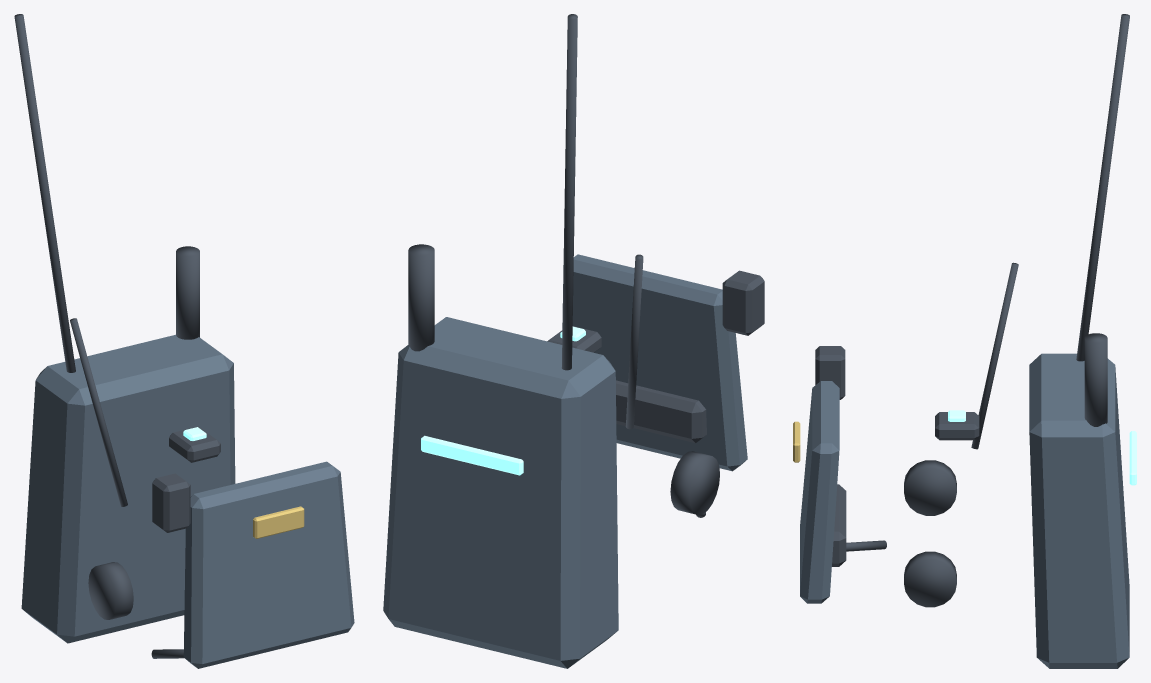
File: hero_gao_kit.glb
The picture shows the model from 3 angles, left to right: view 1: azimuth 30°, elevation 25°; view 2: azimuth 150°, elevation 25°; view 3: azimuth 270°, elevation 25°; orthographic projection. The views are drawn at different scales.
Parts seen in each view (by area): view 1: CommsPack, CmdPlate, LongWhipAnt, SatStub, EarCup_-1, ShoulderPTT, HelmetAnt, CmdGoldPatch, IRStrobe; view 2: CommsPack, CmdPlate, LongWhipAnt, VisorFrame, SatStub, EarCup_-1, ShoulderPTT, IFFStrip, HelmetAnt, IRStrobe; view 3: CommsPack, CmdPlate, LongWhipAnt, EarCup_1, EarCup_-1, SatStub, HelmetAnt, ShoulderPTT, IRStrobe, VisorFrame.
Part boxes in pixels (x1,y1,x2,y2): CommsPack: (21,334,235,643); CmdPlate: (183,461,354,668); LongWhipAnt: (14,14,75,372); SatStub: (176,246,199,339); EarCup_-1: (88,562,133,619); ShoulderPTT: (152,473,190,532); HelmetAnt: (70,318,127,506); CmdGoldPatch: (253,506,304,538); IRStrobe: (169,426,220,462); CommsPack: (383,317,618,668); CmdPlate: (562,254,747,471); LongWhipAnt: (561,14,577,370); VisorFrame: (616,380,706,443); SatStub: (408,244,434,351); EarCup_-1: (670,451,719,514); ShoulderPTT: (722,270,764,335); IFFStrip: (421,435,523,475); HelmetAnt: (625,254,643,429); IRStrobe: (547,326,601,352); CommsPack: (1029,353,1129,668); CmdPlate: (800,381,839,603); LongWhipAnt: (1076,14,1129,361); EarCup_1: (904,551,956,607); EarCup_-1: (904,460,956,515); SatStub: (1084,333,1107,426); HelmetAnt: (971,262,1018,449); ShoulderPTT: (815,346,845,399); IRStrobe: (935,412,979,440); VisorFrame: (832,484,846,566).
Bounding box in the file's own units: 0.266 × 0.7174 × 0.388.
